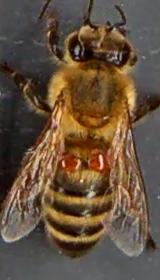varroa_mite: (52, 148, 84, 176), (83, 148, 107, 172)
